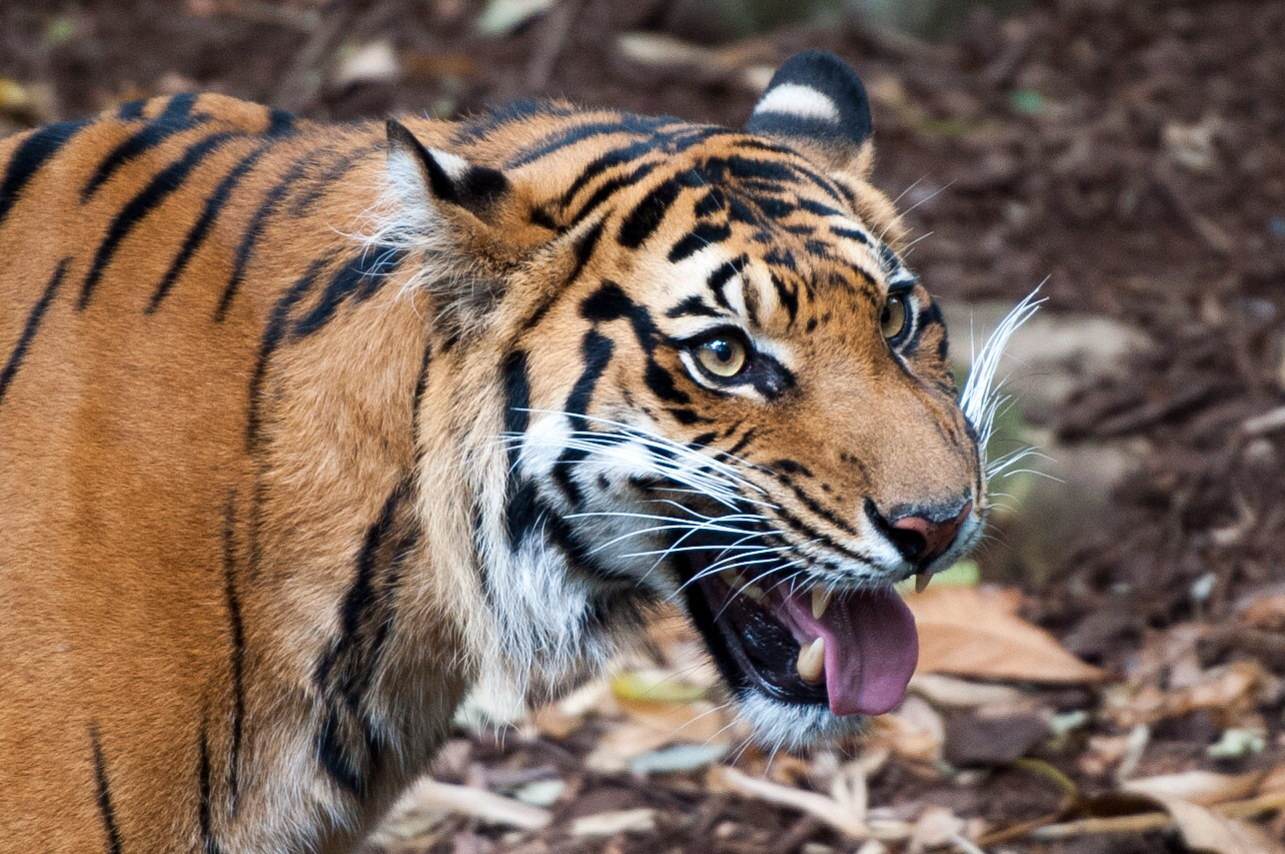tiger: (70, 94, 979, 746)
